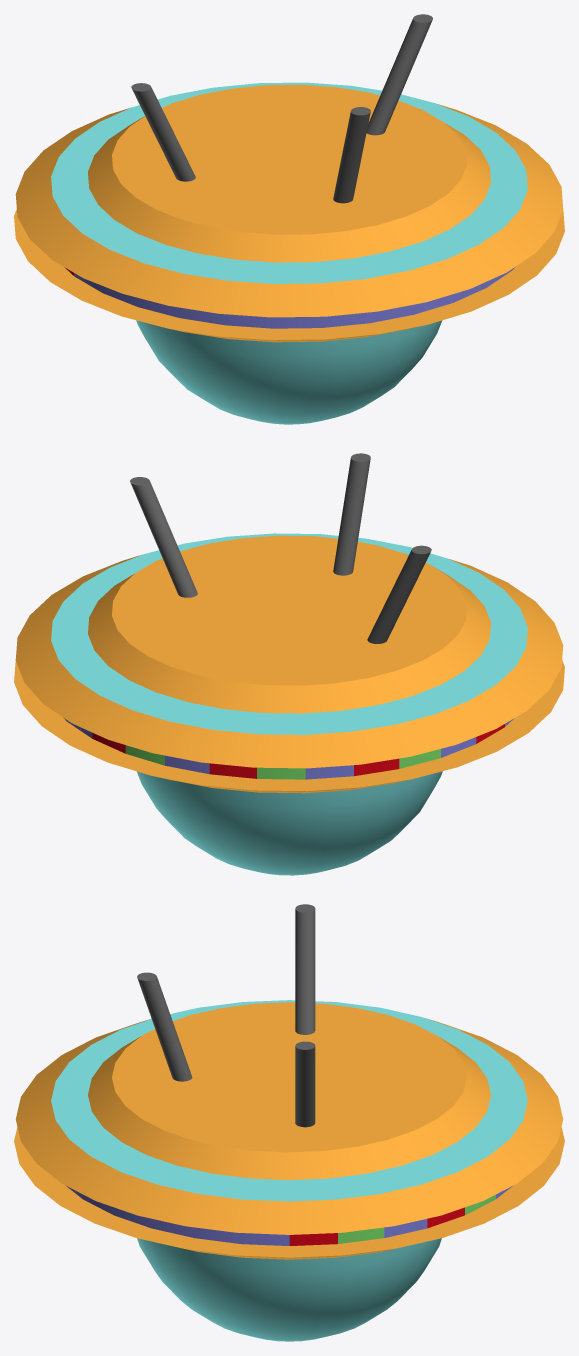
The model's file is nave 2.fbx.
3 renders of one model, top to bottom at view 1: azimuth 30°, elevation 25°; view 2: azimuth 150°, elevation 25°; view 3: azimuth 270°, elevation 25°, orthographic.
Visible parts, largest first — view 1: Sphere; view 2: Sphere; view 3: Sphere.
Part boxes in pixels (x1,y1,x2,y2): Sphere: (14, 14, 564, 424); Sphere: (14, 453, 564, 875); Sphere: (14, 904, 564, 1341).
Bounding box in the file's own units: 333 × 233 × 333.
